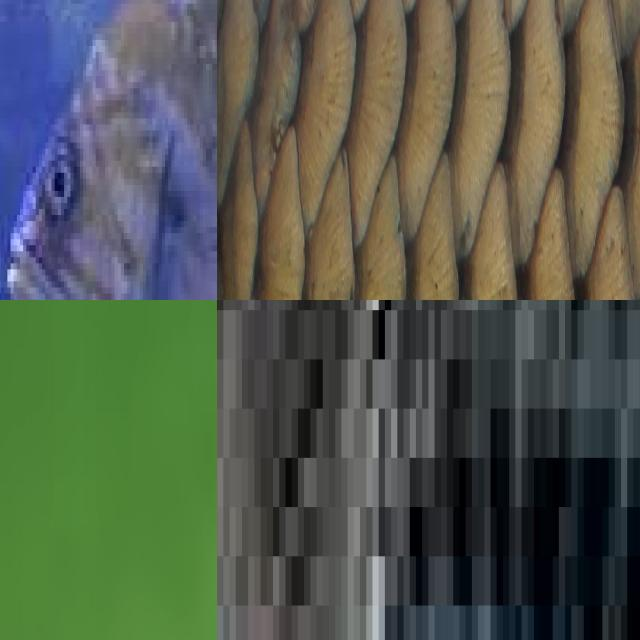fish: (217, 300, 640, 640), (217, 0, 640, 300), (0, 0, 217, 300)
